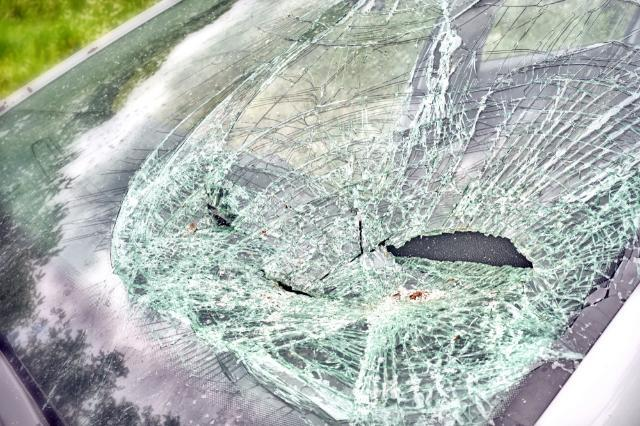glass shatter: (0, 0, 640, 426)
